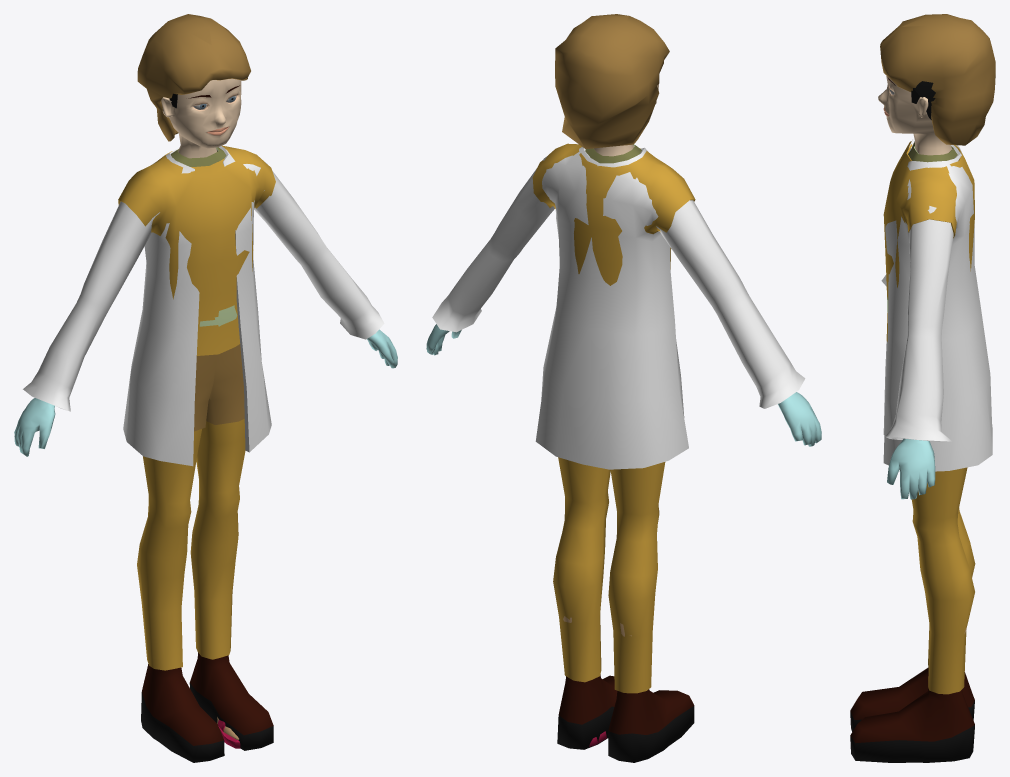
File: CorrectedNPC1.fbx
3 renders of one model, left to right at view 1: azimuth 30°, elevation 25°; view 2: azimuth 150°, elevation 25°; view 3: azimuth 270°, elevation 25°, orthographic. The views are drawn at different scales.
Parts seen in each view (by area): view 1: COAT, PANTS, SHIRT2, SHOES, HAIR1, HEAD, PANTS2, GLOVES, SHIRT0; view 2: COAT, PANTS, HAIR1, SHOES, SHIRT2, GLOVES; view 3: COAT, HAIR1, PANTS, SHOES, SHIRT2, HEAD, GLOVES, HAIRB, SHIRT0.
Boxes of the visible parts, <box> form: COAT: <box>23,146,384,466</box>; PANTS: <box>137,419,245,670</box>; SHIRT2: <box>118,145,275,355</box>; SHOES: <box>141,652,273,762</box>; HAIR1: <box>137,14,250,141</box>; HEAD: <box>161,78,241,158</box>; PANTS2: <box>194,344,244,431</box>; GLOVES: <box>14,329,397,456</box>; SHIRT0: <box>170,147,237,326</box>; COAT: <box>432,147,805,469</box>; PANTS: <box>553,457,665,693</box>; HAIR1: <box>555,14,669,149</box>; SHOES: <box>557,674,694,762</box>; SHIRT2: <box>532,143,695,285</box>; GLOVES: <box>426,324,821,446</box>; COAT: <box>881,139,992,471</box>; HAIR1: <box>880,14,995,145</box>; PANTS: <box>912,467,975,694</box>; SHOES: <box>850,667,974,762</box>; SHIRT2: <box>883,141,974,341</box>; HEAD: <box>878,75,952,155</box>; GLOVES: <box>887,438,935,499</box>; HAIRB: <box>911,81,935,119</box>; SHIRT0: <box>887,142,957,312</box>.
Bounding box in the file's own units: 187 × 334 × 61.04.
